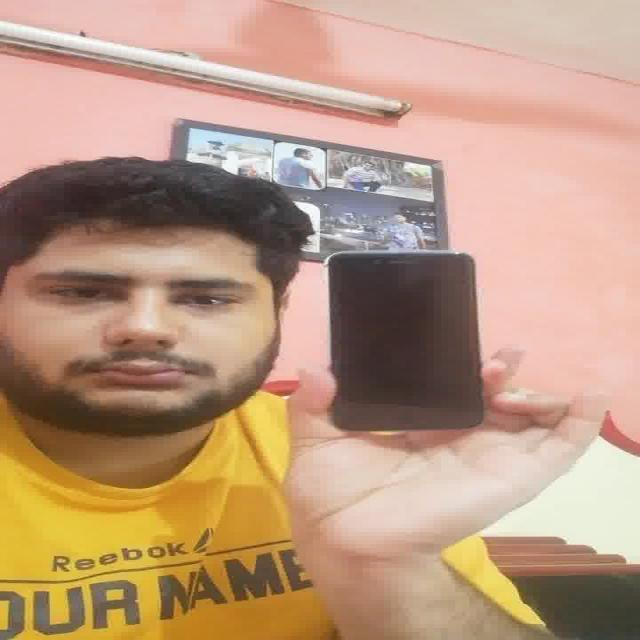Phone: (322, 245, 484, 436)
